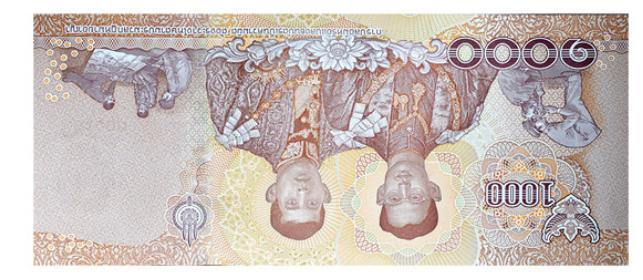1000BahtTai: (35, 16, 627, 263)
